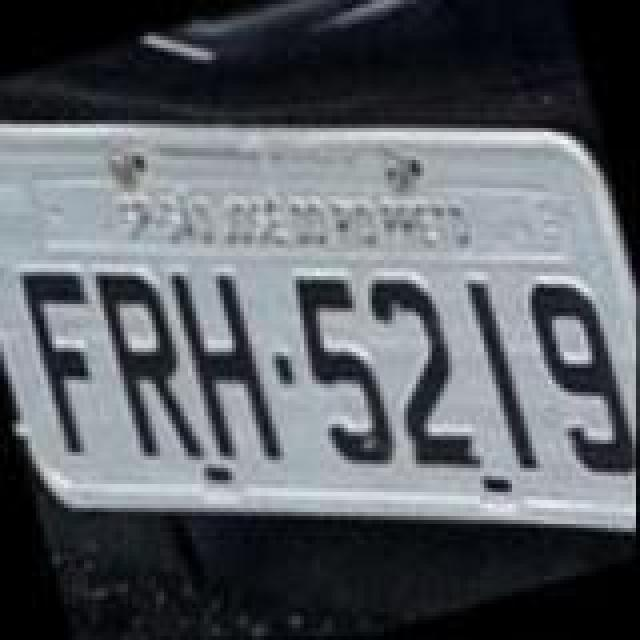1: (464, 270, 544, 478)
2: (362, 262, 486, 490)
5: (282, 256, 402, 476)
9: (522, 264, 638, 488)
F: (12, 250, 128, 462)
H: (166, 252, 286, 476)
R: (90, 250, 210, 474)
